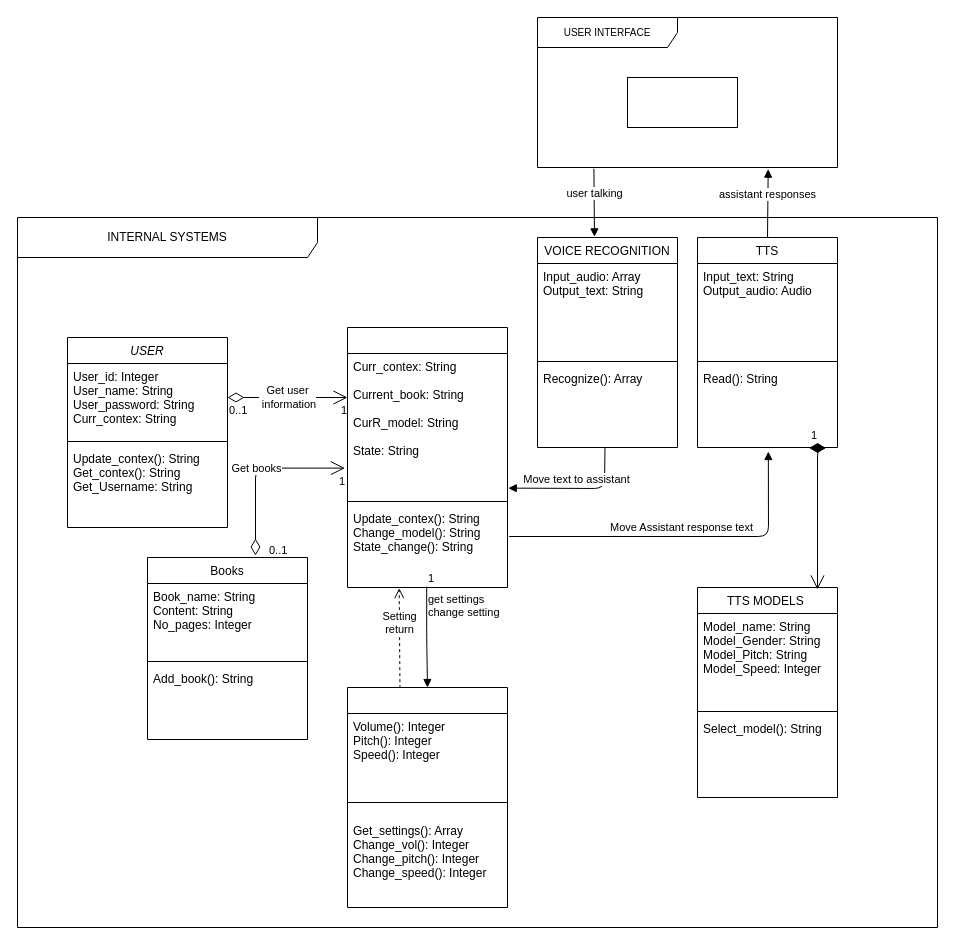
Some shapes in this 955 by 945 pixel diagram are drawn without their labels. The shapes that lost their labels are listed below. From the top down, each one's box as (x1, y1, x2, y2) in pixels, then its label:
(626, 76, 738, 128): «interface» WEB INTERFACE
(346, 326, 508, 588): VIRTUAL ASSISTANT
(346, 686, 508, 908): APP SETTINGS
